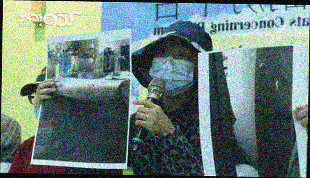with_mask: (148, 45, 198, 96)
